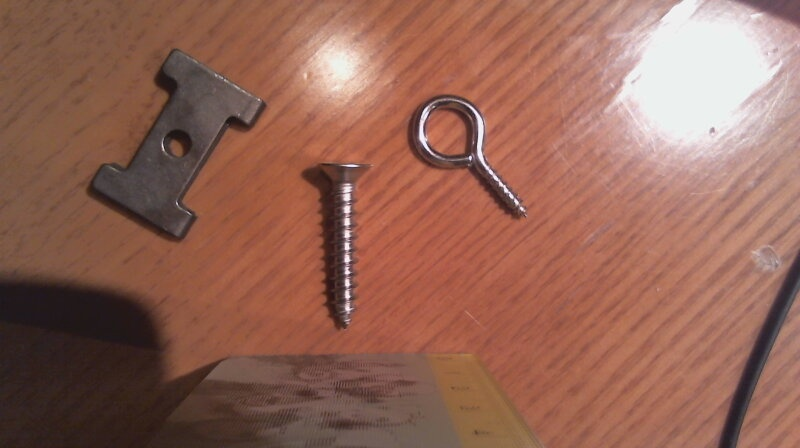O001: (406, 92, 532, 225)
O002: (83, 46, 265, 243)
S001: (313, 155, 375, 331)
